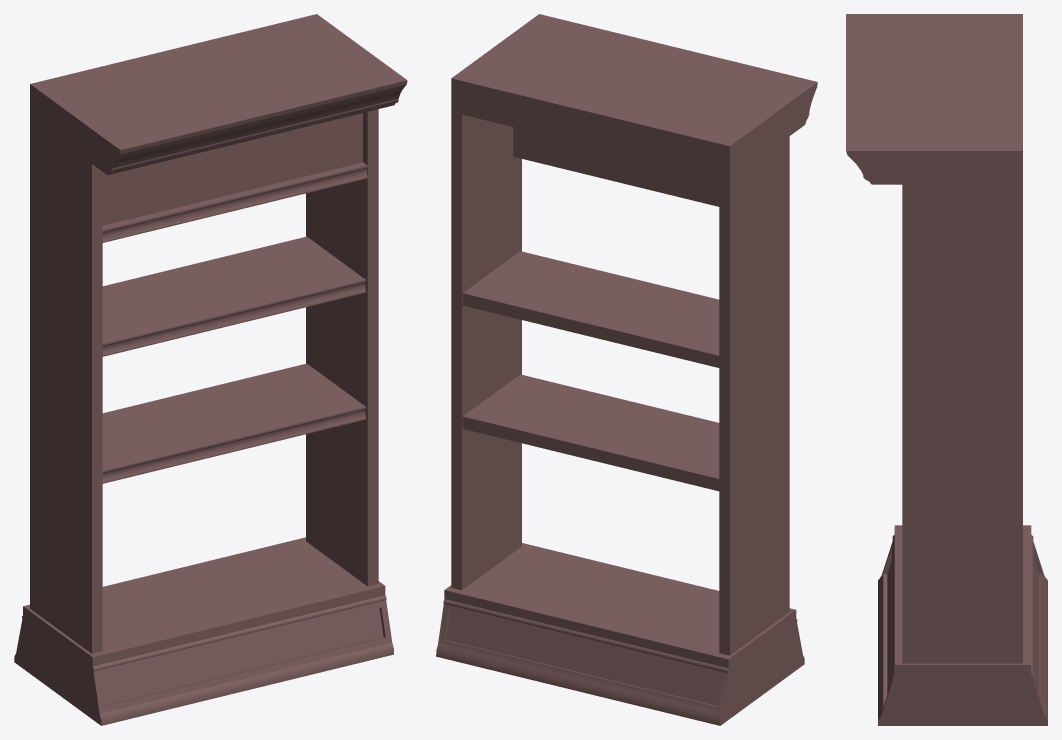
The model's file is Deco2.fbx.
3 renders of one model, left to right at view 1: azimuth 30°, elevation 25°; view 2: azimuth 150°, elevation 25°; view 3: azimuth 270°, elevation 25°, orthographic. The views are drawn at different scales.
Parts seen in each view (by area): view 1: estante2; view 2: estante2; view 3: estante2.
Boxes of the visible parts, <box> form: estante2: <box>14,14,407,725</box>; estante2: <box>436,14,817,725</box>; estante2: <box>846,14,1047,725</box>.
Bounding box in the file's own units: 1.15 × 2.2 × 0.7006.
